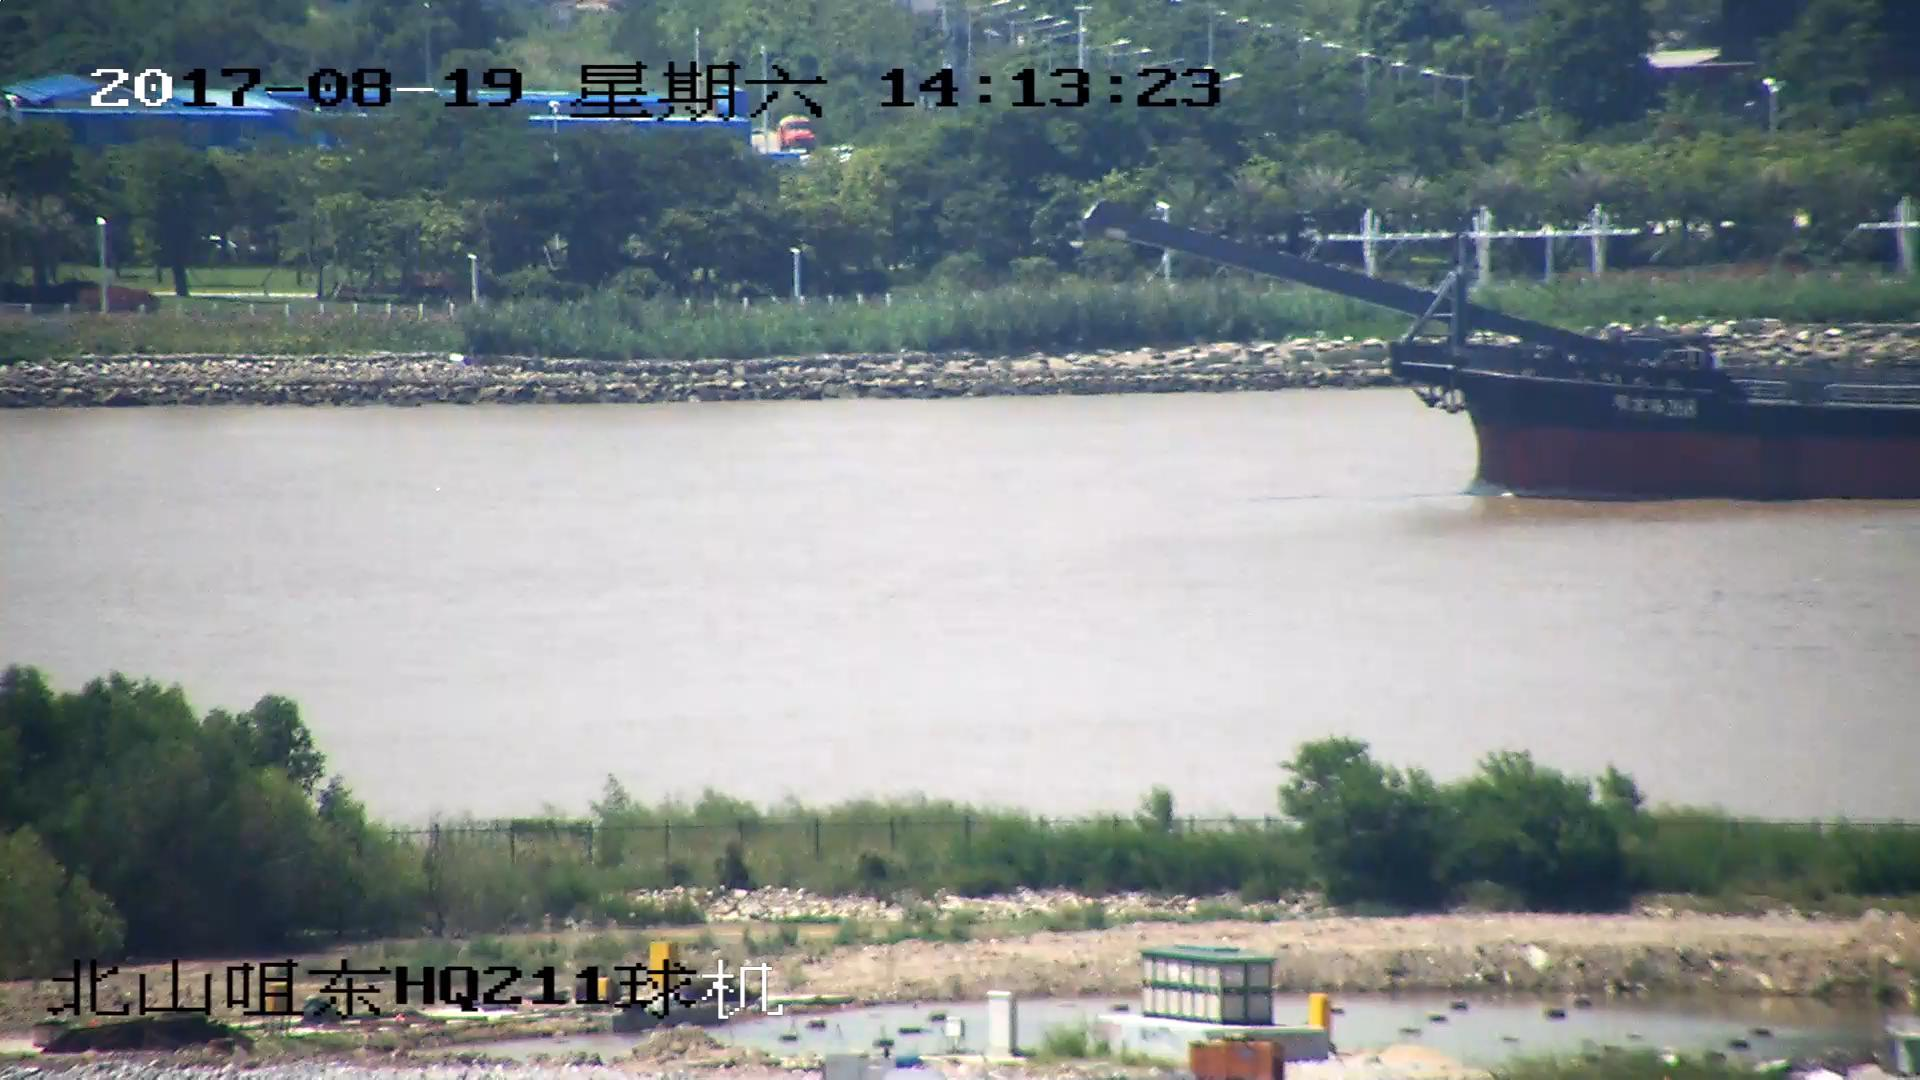Ship: (1091, 204, 1920, 508)
